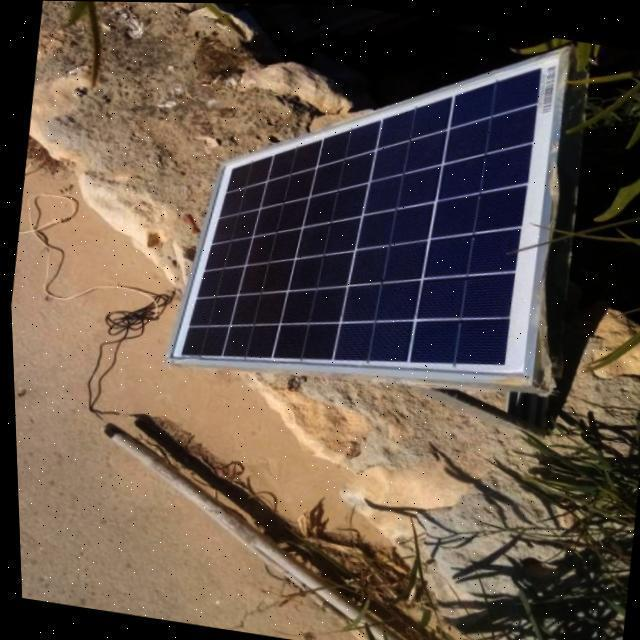Normal Solar Panel: (154, 2, 580, 416)
